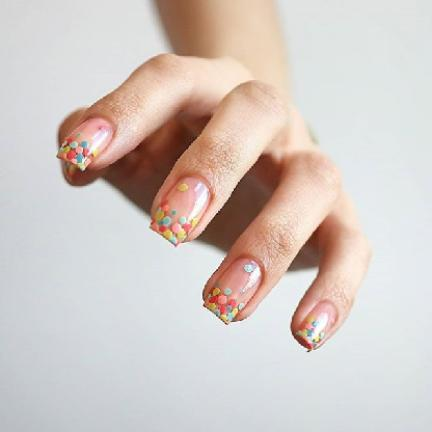Nail: (149, 177, 211, 247), (202, 258, 262, 325), (56, 117, 114, 172), (294, 302, 338, 350)
